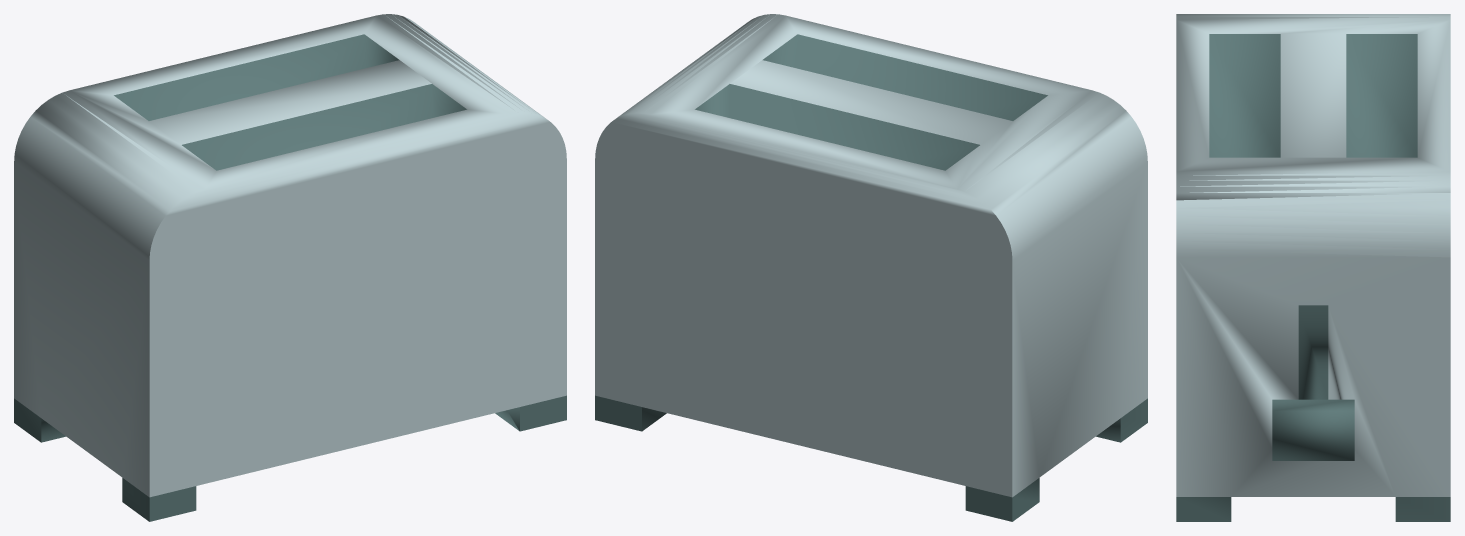
File: toaster.glb
The picture shows the model from 3 angles, left to right: view 1: azimuth 30°, elevation 25°; view 2: azimuth 150°, elevation 25°; view 3: azimuth 270°, elevation 25°; orthographic projection.
Visible parts, largest first — view 1: toaster; view 2: toaster; view 3: toaster.
Part boxes in pixels (x1,y1,x2,y2): toaster: (14,14,566,521); toaster: (595,14,1147,521); toaster: (1176,14,1450,521).
Bounding box in the file's own units: 0.3 × 0.2075 × 0.1596.
